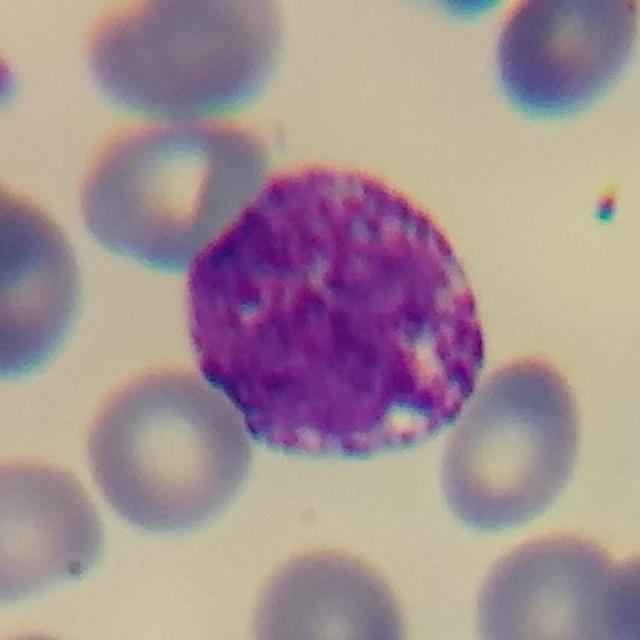baso: (174, 162, 496, 472)
